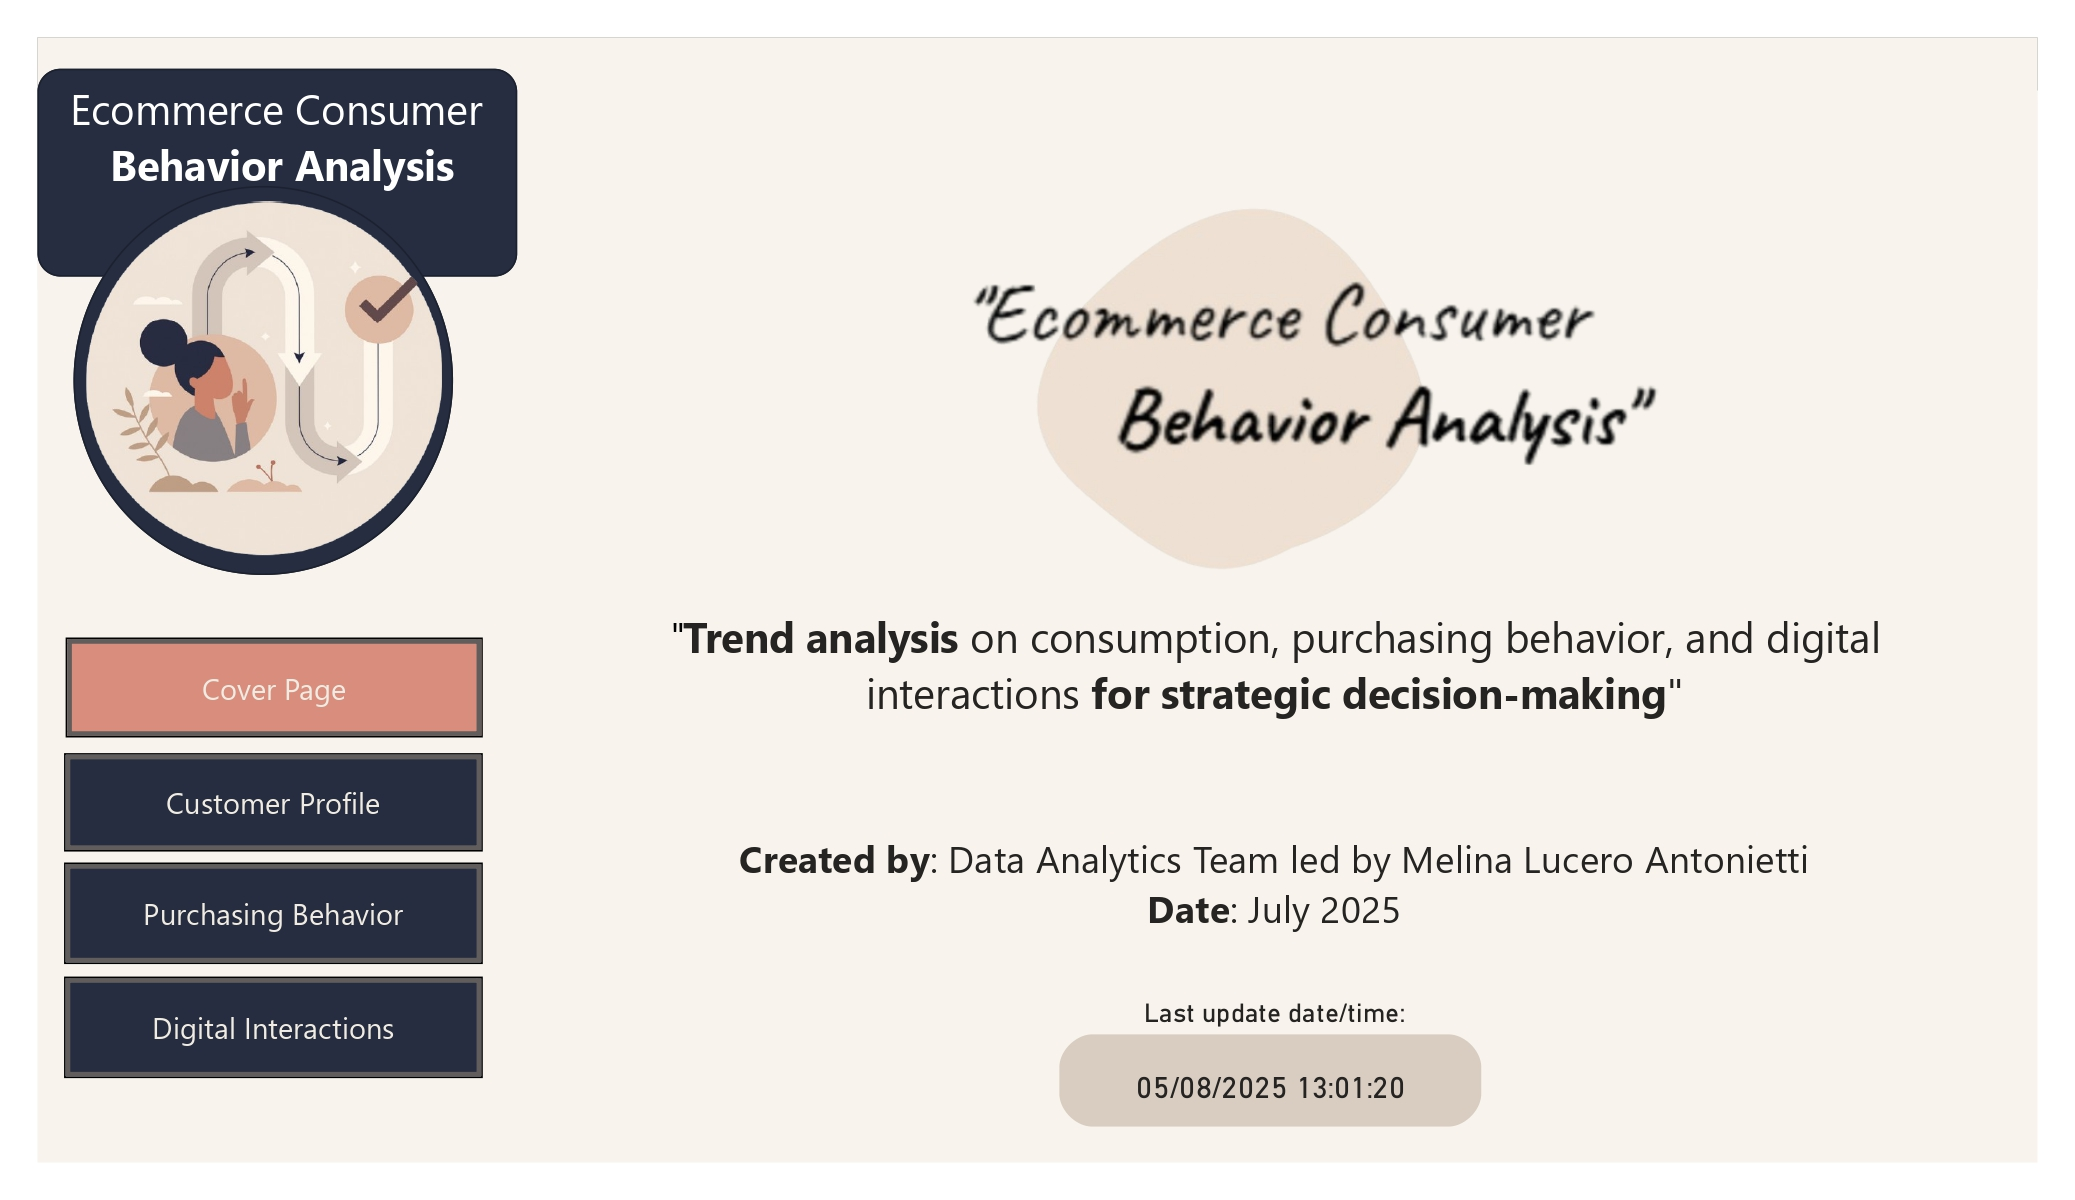

The dashboard page shown, as its layout file describes it:
{"tool":"powerbi","page":{"name":"Cover Page","canvas":[1280,720],"ordinal":0},"visuals":[{"type":"shape","box":[0,19.7,307,133.2],"z":0,"group":"g1"},{"type":"actionButton","box":[17.4,457.6,267.9,63.4],"z":0},{"type":"shape","box":[23.3,95.1,243.1,248.7],"z":1000,"group":"g1"},{"type":"actionButton","box":[17.4,527.8,267.9,64.9],"z":1000},{"type":"image","box":[3.5,99.8,282.6,239.2],"z":2000,"group":"g1"},{"type":"actionButton","box":[17.4,600.9,267.9,64.9],"z":2000},{"type":"actionButton","box":[17.7,384,267.5,63.8],"z":3000},{"type":"group","id":"g1","title":"Grupo 1","box":[0,19.7,306.6,324.6],"z":4000},{"type":"textbox","box":[2.9,21.6,306.7,159.8],"z":5000},{"type":"textbox","box":[385.9,360,810.7,151.2],"z":6000},{"type":"textbox","box":[367.1,504.3,848.6,110],"z":7000},{"type":"image","box":[515.5,74.9,636.5,286.6],"z":8000},{"type":"cardVisual","title":"Last update date/time:","fields":{"Data":["Medidas.Hora"]},"box":[640,614.3,302.9,88.6],"z":9000}]}

Visuals, with their boxes on the page's 1280x720 design canvas (x1, y1, x2, y2). These are canvas units, not pixel positions in the 2075x1200 screenshot, which may show the page scaled, cropped or inside an application window:
shape: Rect(0, 20, 307, 153)
actionButton: Rect(17, 458, 285, 521)
shape: Rect(23, 95, 266, 344)
actionButton: Rect(17, 528, 285, 593)
image: Rect(4, 100, 286, 339)
actionButton: Rect(17, 601, 285, 666)
actionButton: Rect(18, 384, 285, 448)
"Grupo 1" group: Rect(0, 20, 307, 344)
textbox: Rect(3, 22, 310, 181)
textbox: Rect(386, 360, 1197, 511)
textbox: Rect(367, 504, 1216, 614)
image: Rect(516, 75, 1152, 362)
"Last update date/time:" cardVisual: Rect(640, 614, 943, 703)
